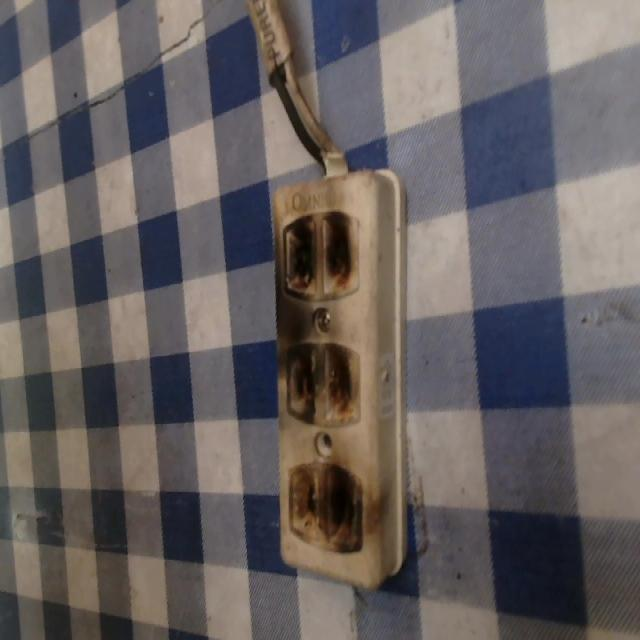-: (285, 460, 365, 555), (283, 337, 361, 431), (280, 206, 362, 294)
